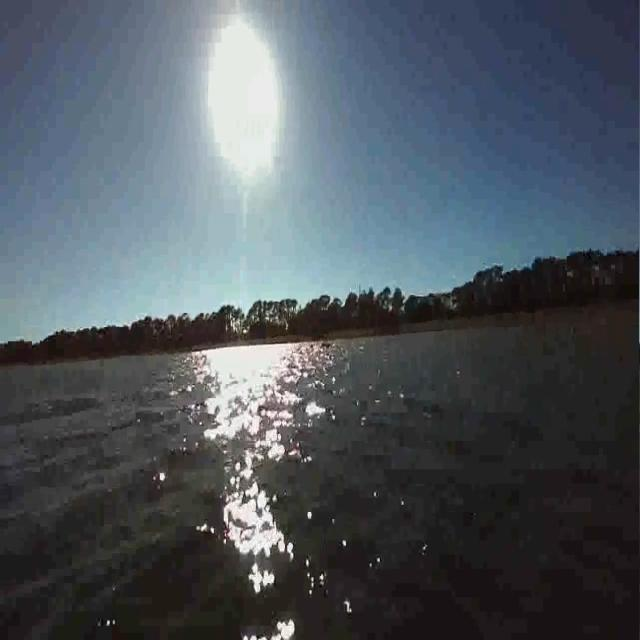yellow-buoy: (598, 408, 610, 428), (521, 339, 529, 353)
